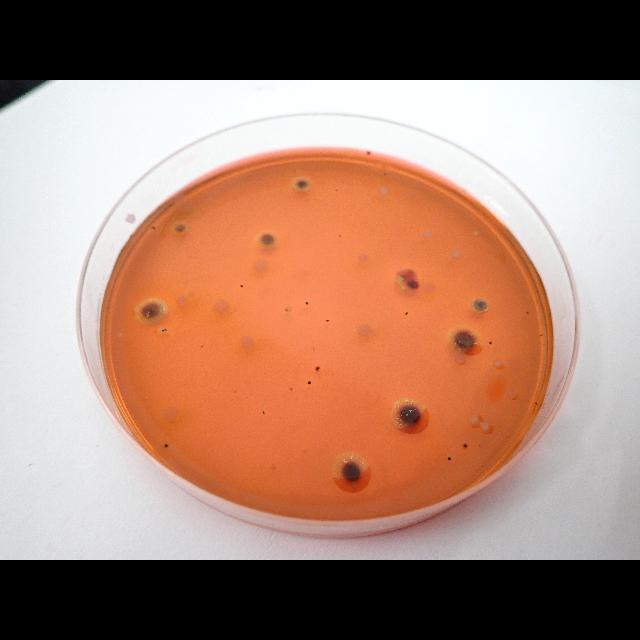colony: (391, 396, 432, 436), (332, 452, 372, 492), (448, 326, 482, 354), (136, 298, 166, 324), (400, 271, 422, 297), (470, 296, 490, 314), (258, 231, 276, 249), (294, 177, 310, 191), (175, 223, 187, 235), (314, 365, 320, 373), (462, 442, 468, 450), (306, 379, 312, 386), (304, 300, 310, 306), (446, 456, 452, 462), (262, 408, 266, 416), (152, 224, 156, 232), (488, 340, 492, 346), (404, 311, 408, 317), (164, 442, 168, 448), (525, 310, 529, 316), (534, 401, 538, 407), (326, 318, 330, 324), (539, 333, 543, 337), (240, 284, 244, 288), (165, 328, 167, 332), (162, 328, 164, 332)
